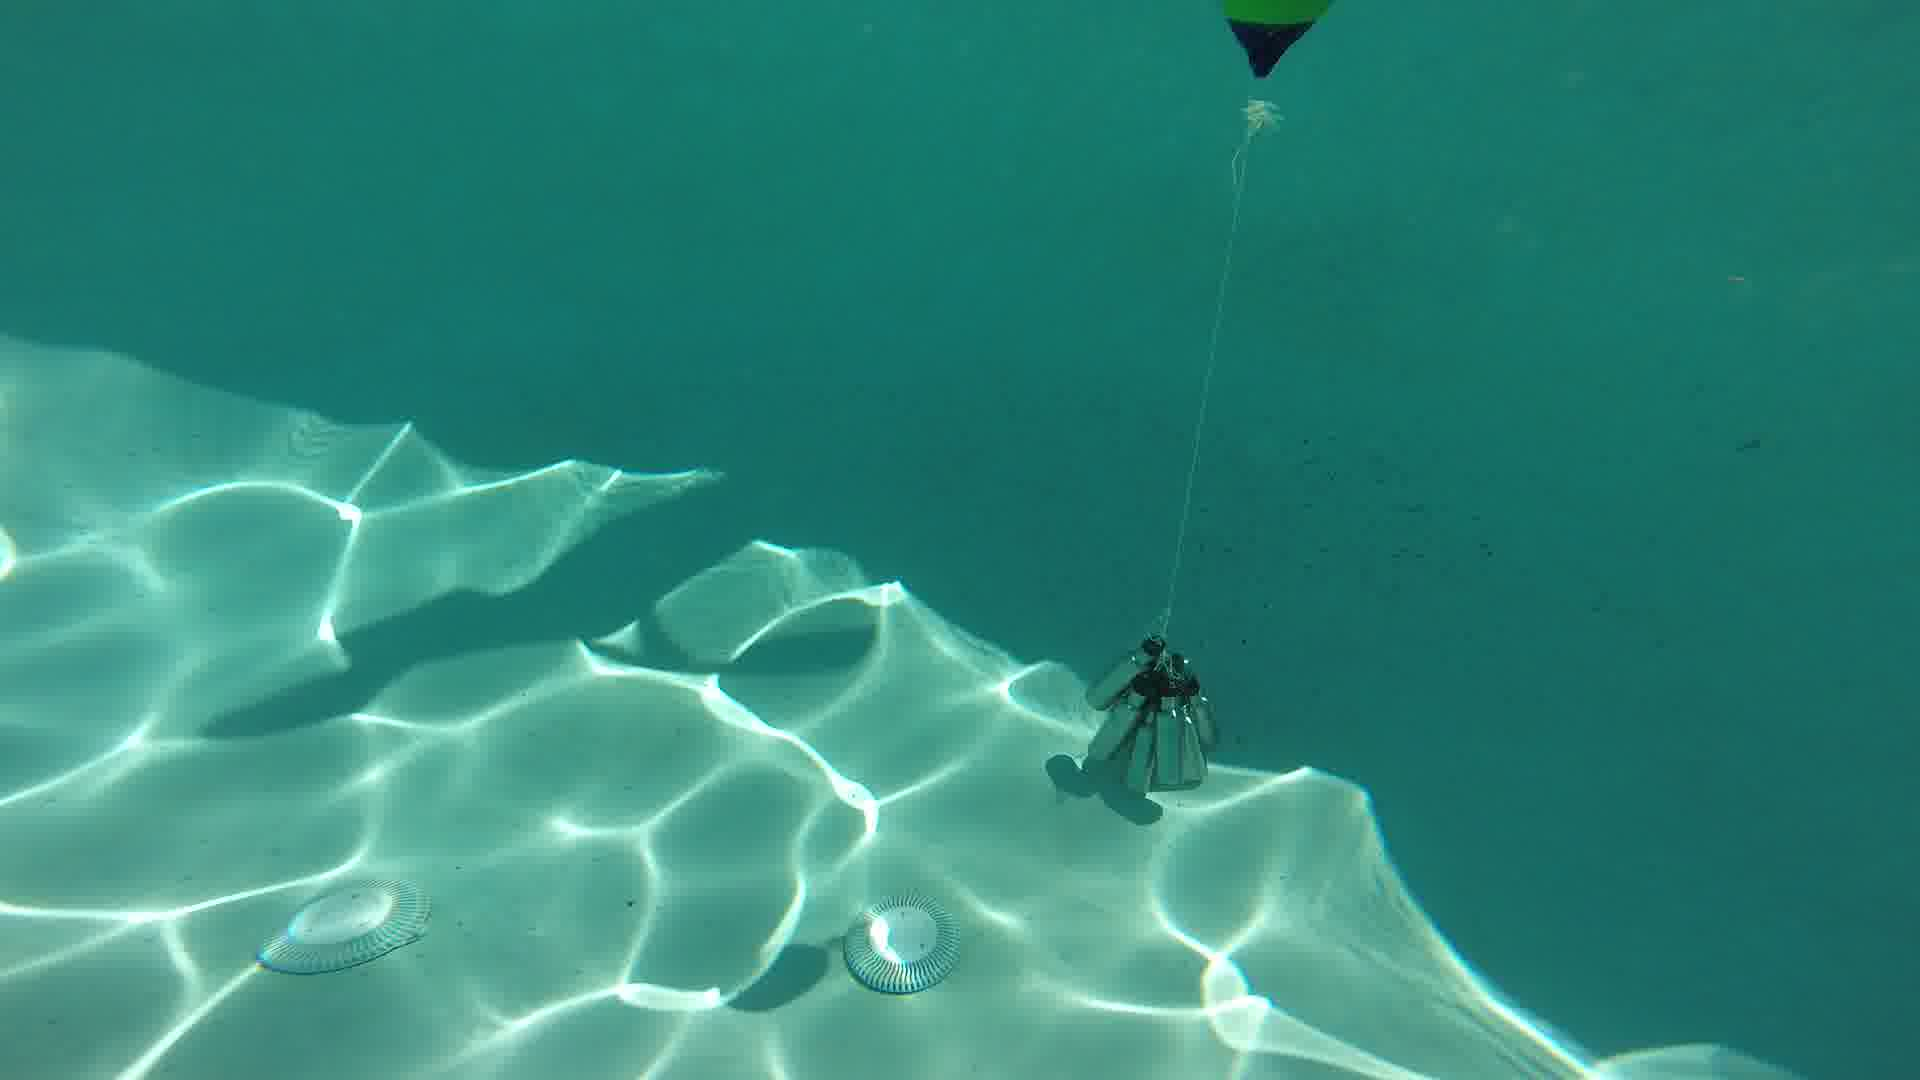yellow_buoy: (1221, 3, 1328, 141)
